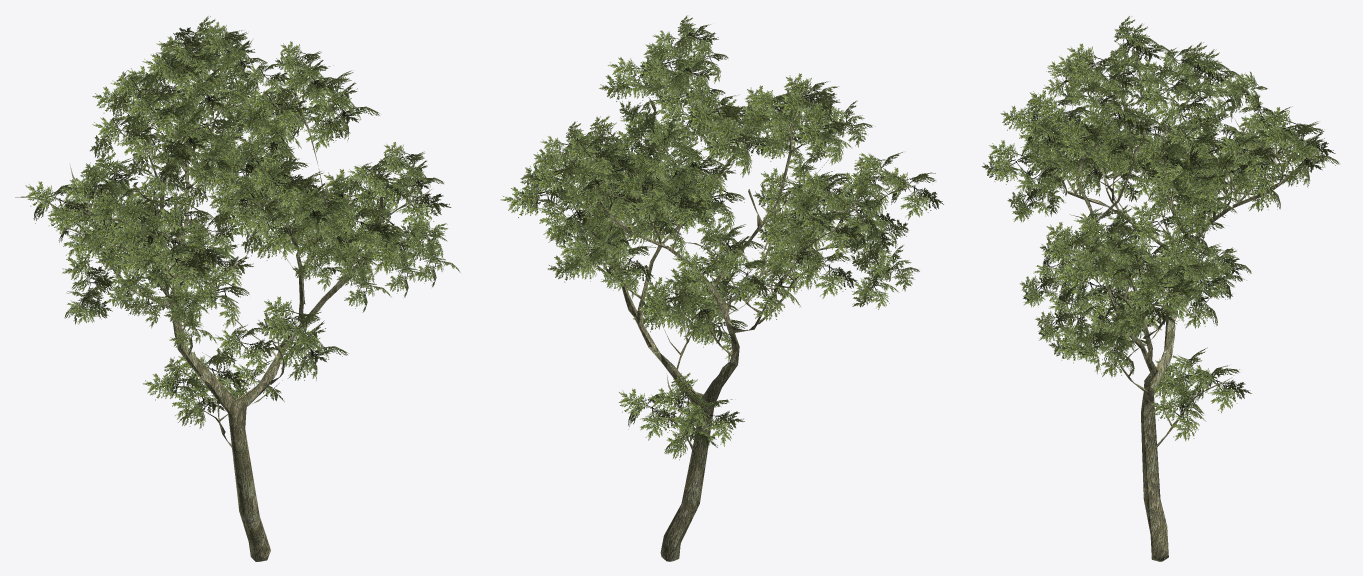
3 renders of one model, left to right at view 1: azimuth 30°, elevation 25°; view 2: azimuth 150°, elevation 25°; view 3: azimuth 270°, elevation 25°, orthographic. The views are drawn at different scales.
Parts seen in each view (by area): view 1: Leaves_1, Trunk_0; view 2: Leaves_1, Trunk_0; view 3: Leaves_1, Trunk_0.
Boxes of the visible parts, bbox=[...] form: Leaves_1: bbox=[25, 16, 460, 429]; Trunk_0: bbox=[15, 38, 431, 561]; Leaves_1: bbox=[500, 15, 943, 460]; Trunk_0: bbox=[557, 83, 915, 561]; Leaves_1: bbox=[982, 16, 1339, 441]; Trunk_0: bbox=[1026, 56, 1321, 561].
Bounding box in the file's own units: 46.1 × 58.2 × 38.83.
2 materials, 2 textured.
